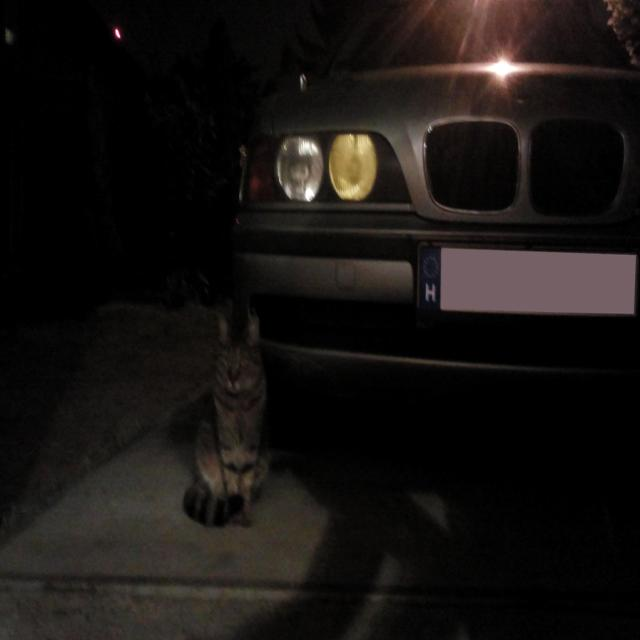Cat: (184, 299, 279, 552)
car: (212, 0, 640, 501)
